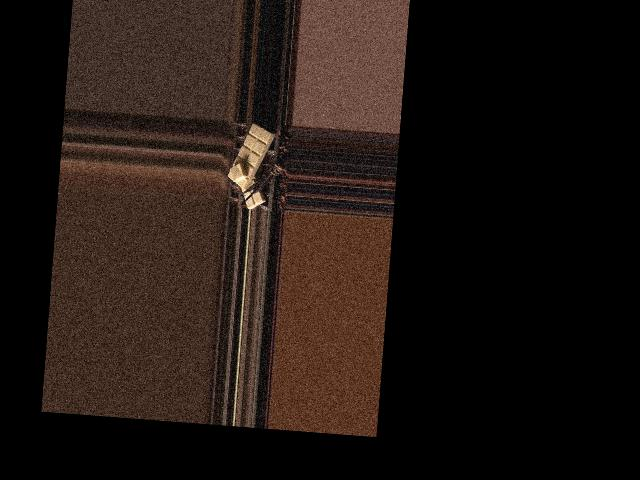chocolate: (227, 122, 274, 193)
